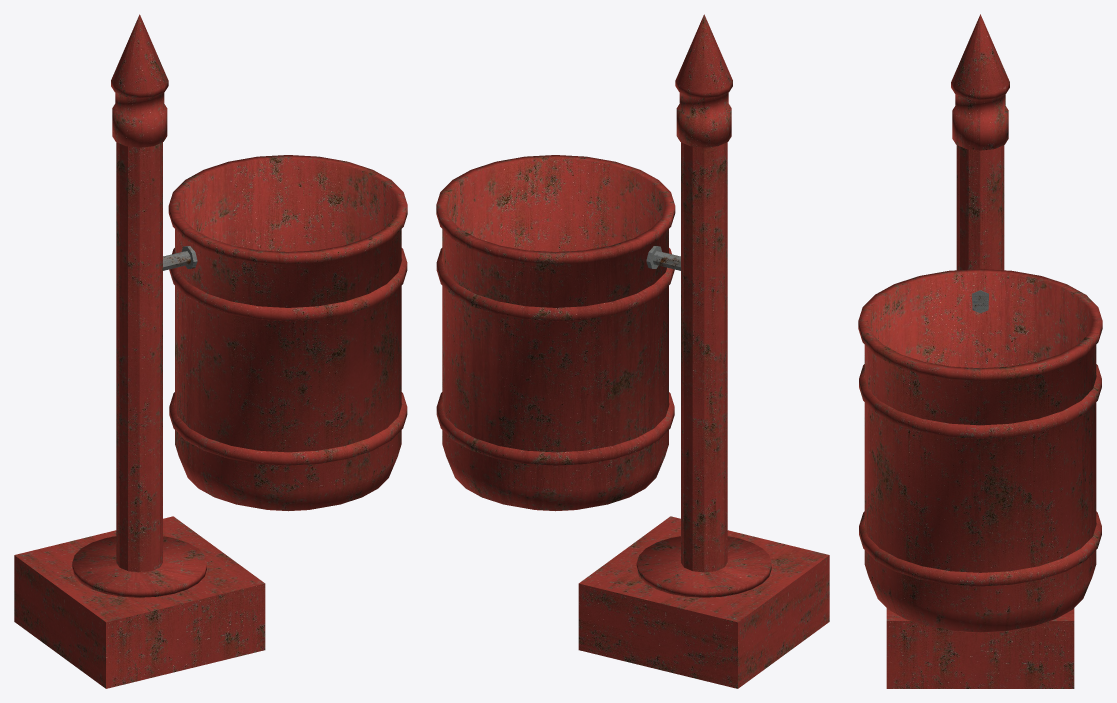
Rendered from urn_post_web.glb.
3 renders of one model, left to right at view 1: azimuth 30°, elevation 25°; view 2: azimuth 150°, elevation 25°; view 3: azimuth 270°, elevation 25°, orthographic. The views are drawn at different scales.
Parts seen in each view (by area): view 1: Urn_BinMesh, UrnPost_Mesh; view 2: Urn_BinMesh, UrnPost_Mesh; view 3: Urn_BinMesh, UrnPost_Mesh.
Boxes of the visible parts, box(x1,y1,x2,y2) form: Urn_BinMesh: box(168, 155, 407, 511); UrnPost_Mesh: box(14, 14, 265, 688); Urn_BinMesh: box(436, 155, 675, 511); UrnPost_Mesh: box(578, 14, 829, 688); Urn_BinMesh: box(858, 269, 1102, 632); UrnPost_Mesh: box(886, 14, 1074, 688).
Bounding box in the file's own units: 0.625 × 1.12 × 0.39.
2 materials, 2 textured.
